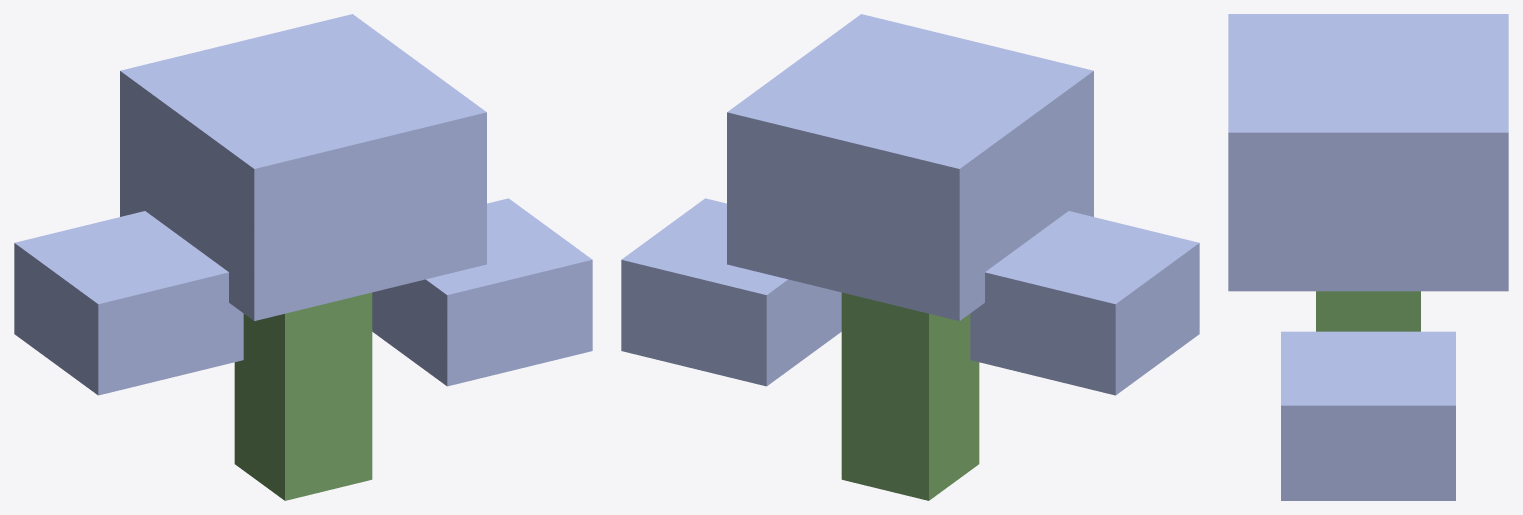
The model's file is Prop_DS_Herb_LatencyLily_S1_V1.glb.
3 renders of one model, left to right at view 1: azimuth 30°, elevation 25°; view 2: azimuth 150°, elevation 25°; view 3: azimuth 270°, elevation 25°, orthographic. The views are drawn at different scales.
Parts seen in each view (by area): view 1: Cube.003, Cube.002, Cube.001, Cube; view 2: Cube.003, Cube.002, Cube.001, Cube; view 3: Cube.003, Cube.001, Cube.
Boxes of the visible parts, bbox=[...] form: Cube.003: bbox=[120, 14, 486, 320]; Cube.002: bbox=[14, 211, 243, 395]; Cube.001: bbox=[372, 198, 592, 386]; Cube: bbox=[234, 292, 372, 500]; Cube.003: bbox=[727, 14, 1093, 320]; Cube.002: bbox=[970, 211, 1199, 395]; Cube.001: bbox=[621, 198, 841, 386]; Cube: bbox=[841, 292, 979, 500]; Cube.003: bbox=[1228, 14, 1508, 291]; Cube.001: bbox=[1281, 331, 1455, 500]; Cube: bbox=[1316, 291, 1420, 331].
Size of the model in its own units: 0.34 by 0.25 by 0.16.
